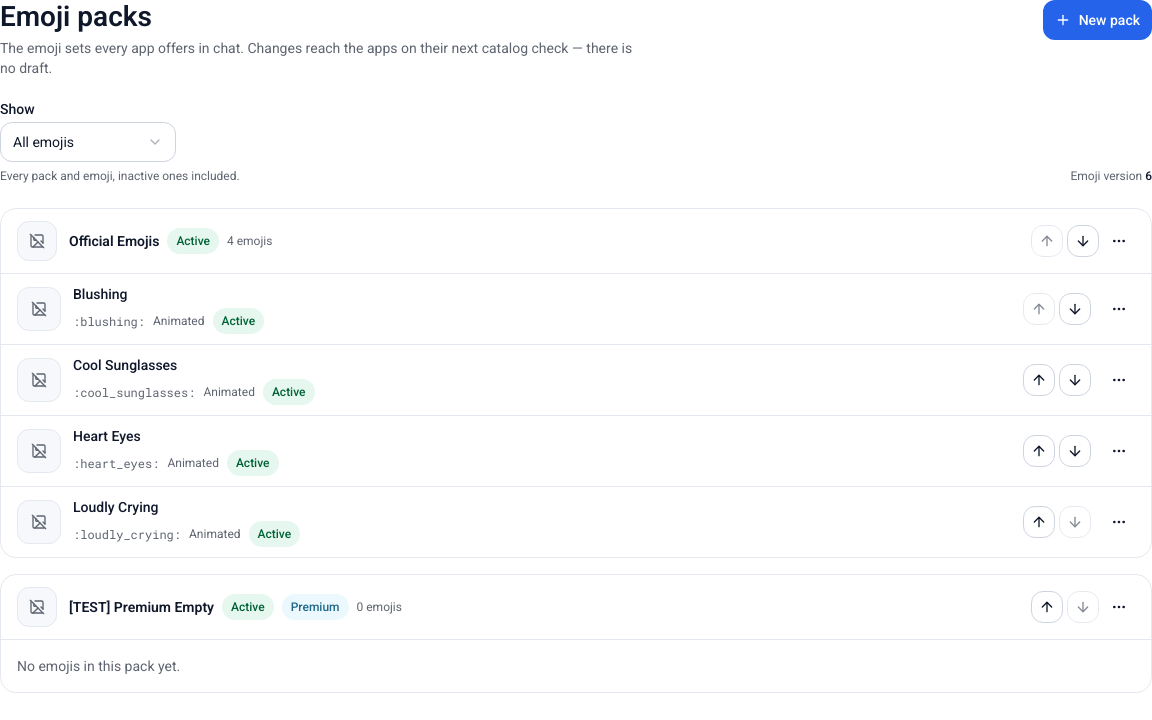
Scenario: switching off › warns a pack takes its active emojis with it
Click the button named "Actions for Official Emojis" at (1119, 241), box [1103,225,1135,257]
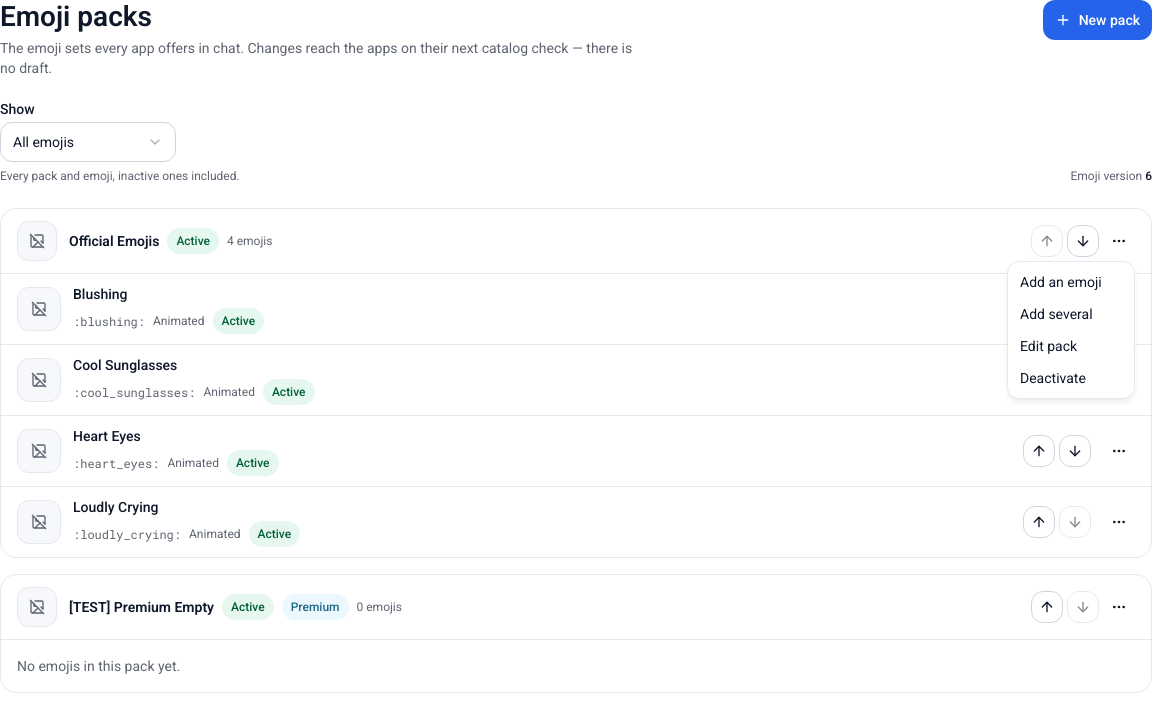
Click the menu item "Deactivate" at (1053, 378), box [1020,370,1086,386]
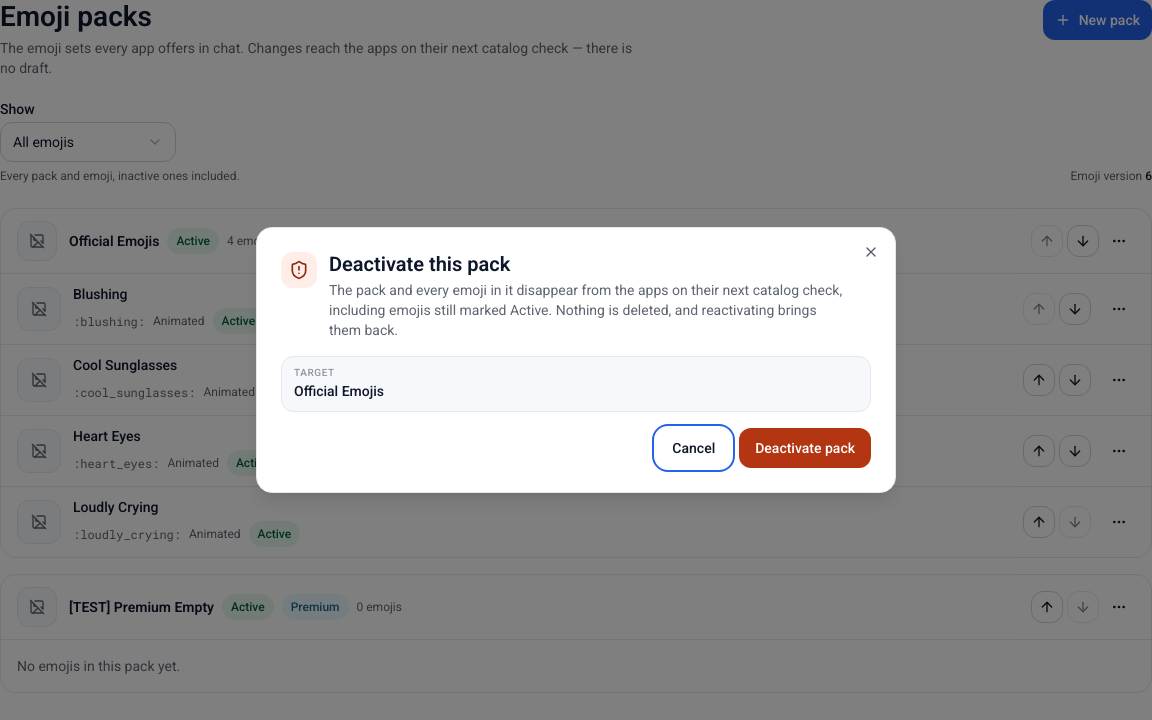
Expected: the text "including emojis still marked Active" is shown, [329,282,842,338]
